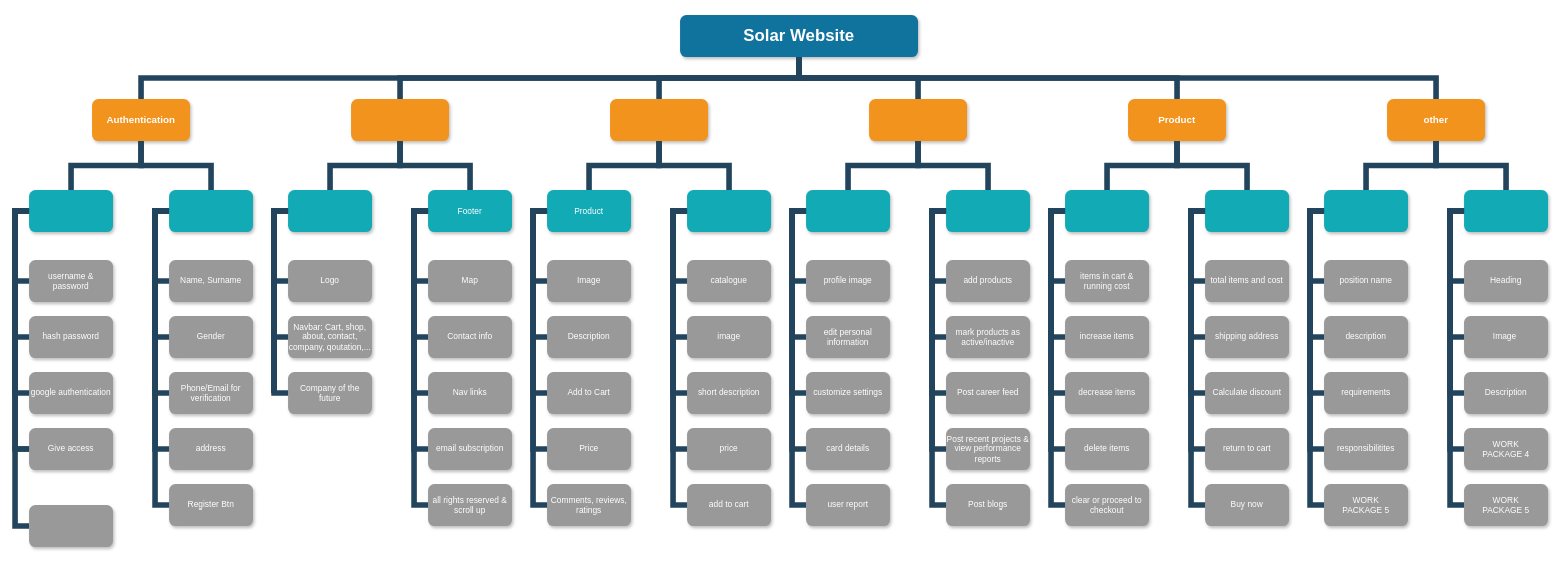
The diagram is 1564 pixels wide and 564 high, and some of its shapes have lost their labels. The centre of each missing label's shape, as x and y in pixels:
"Admin" goes at [988,212].
"blog" goes at [1506,212].
"Careers" goes at [1366,212].
"Cart" goes at [1107,212].
"Checkout" goes at [1247,212].
"Footer/Header" goes at [400,121].
"Header" goes at [330,212].
"Login" goes at [71,212].
"Login Btn" goes at [71,527].
"Products" goes at [729,212].
"Profile" goes at [848,212].
"Registration" goes at [211,212].
"Shop" goes at [659,121].
"User" goes at [918,121].
